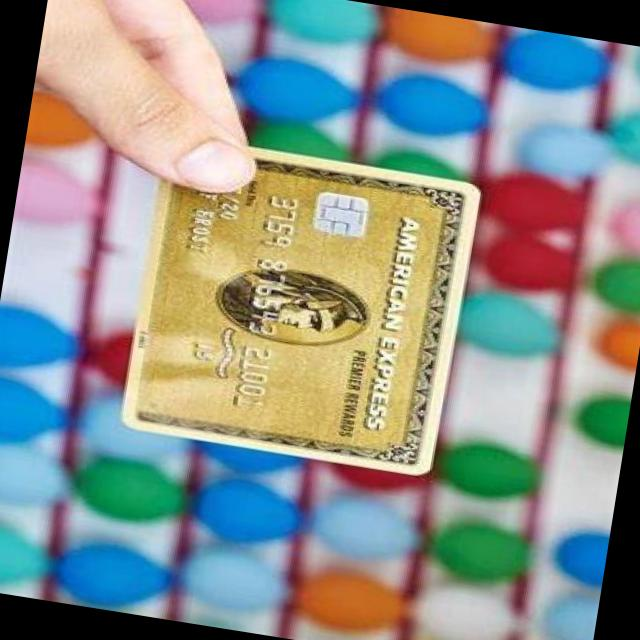card: (116, 127, 484, 486)
